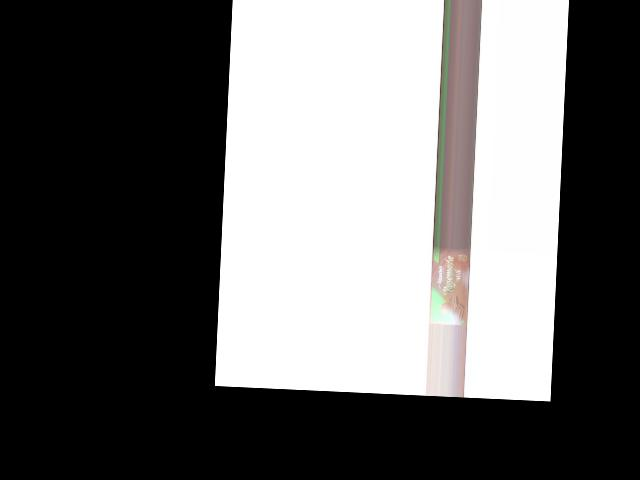chocolate: (430, 245, 470, 324)
